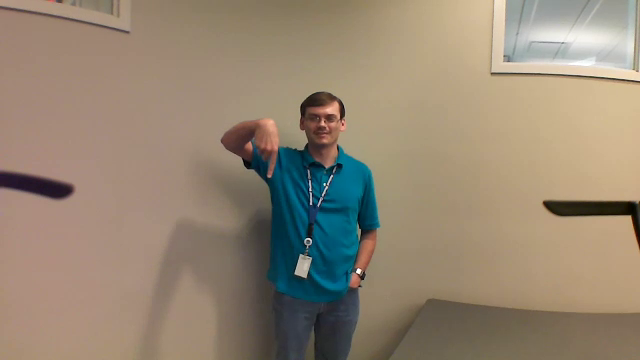down: (242, 107, 284, 185)
